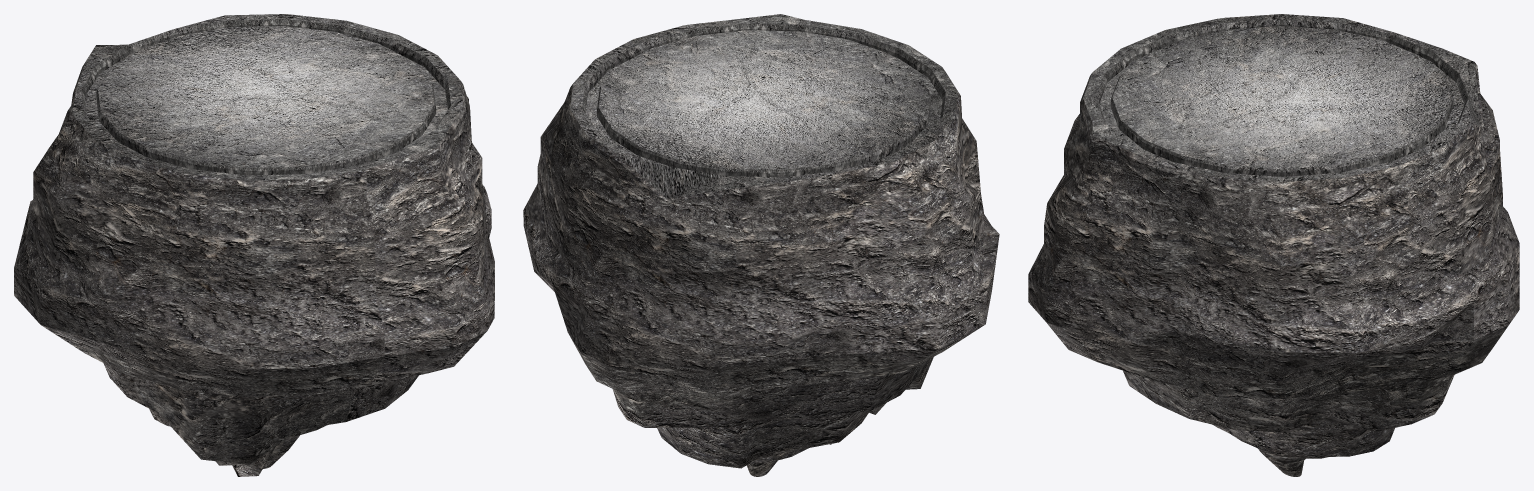
File: FloatingRock_001.fbx
The picture shows the model from 3 angles, left to right: view 1: azimuth 30°, elevation 25°; view 2: azimuth 150°, elevation 25°; view 3: azimuth 270°, elevation 25°; orthographic projection.
Parts seen in each view (by area): view 1: FloatingRock_001; view 2: FloatingRock_001; view 3: FloatingRock_001.
Boxes of the visible parts, box(x1,y1,x2,y2) form: FloatingRock_001: box(14, 14, 494, 476); FloatingRock_001: box(523, 14, 999, 476); FloatingRock_001: box(1028, 14, 1519, 476).
Bounding box in the file's own units: 81.67 × 66 × 78.
